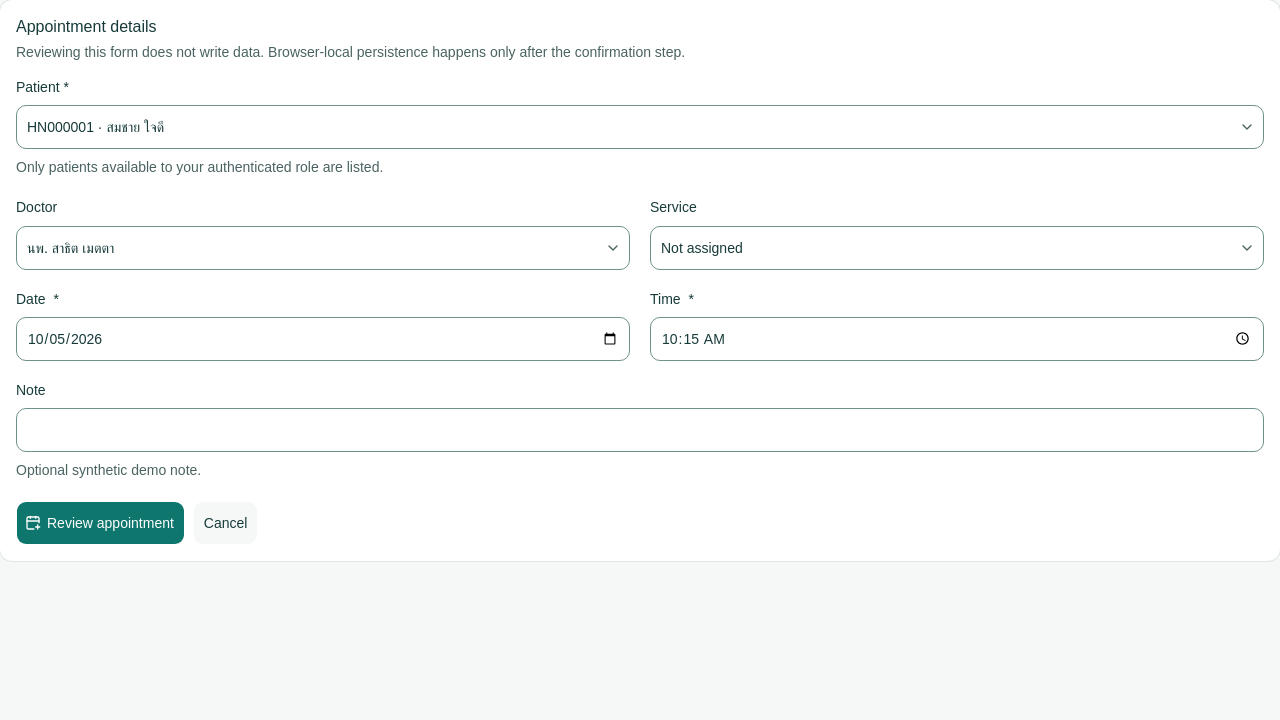
Test case: create appointment confirmation flow › reports storage write failure without claiming success
The image size is (1280, 720).
Click the button "Review appointment": (100, 523) [16, 501, 185, 545]
(page scrolled)
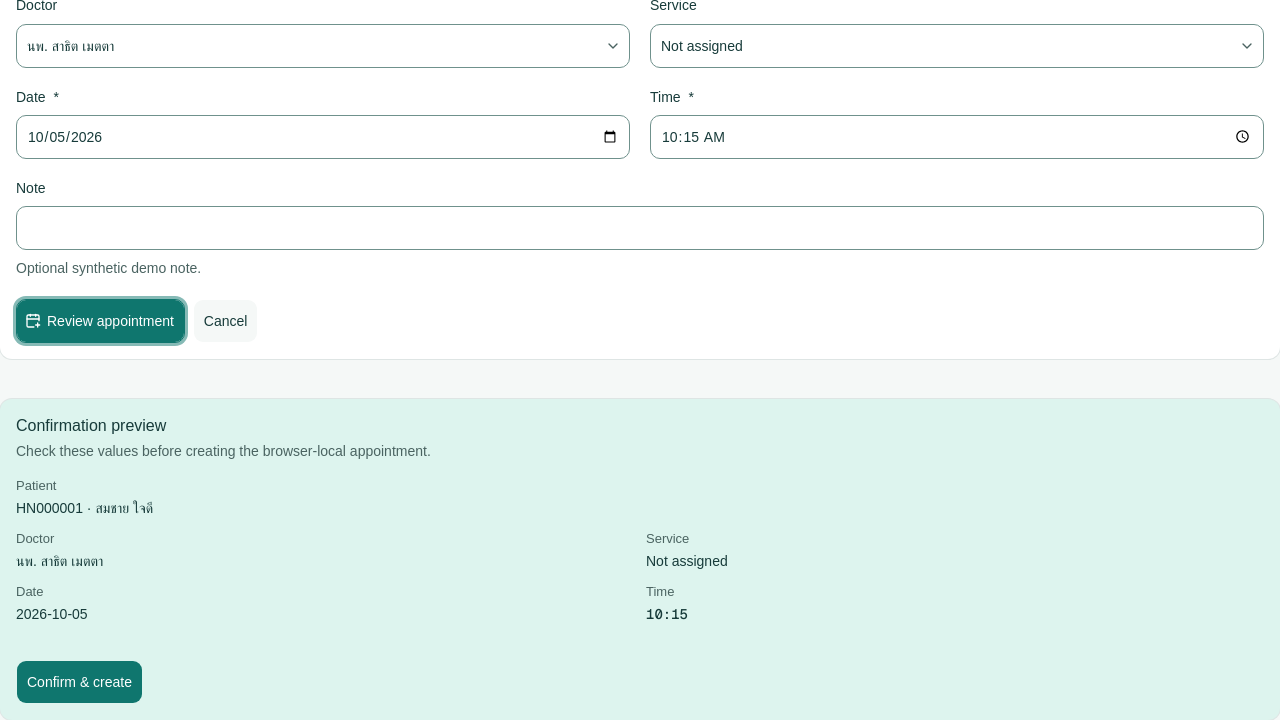
Click the button "Confirm & create": (80, 682) [16, 660, 143, 704]
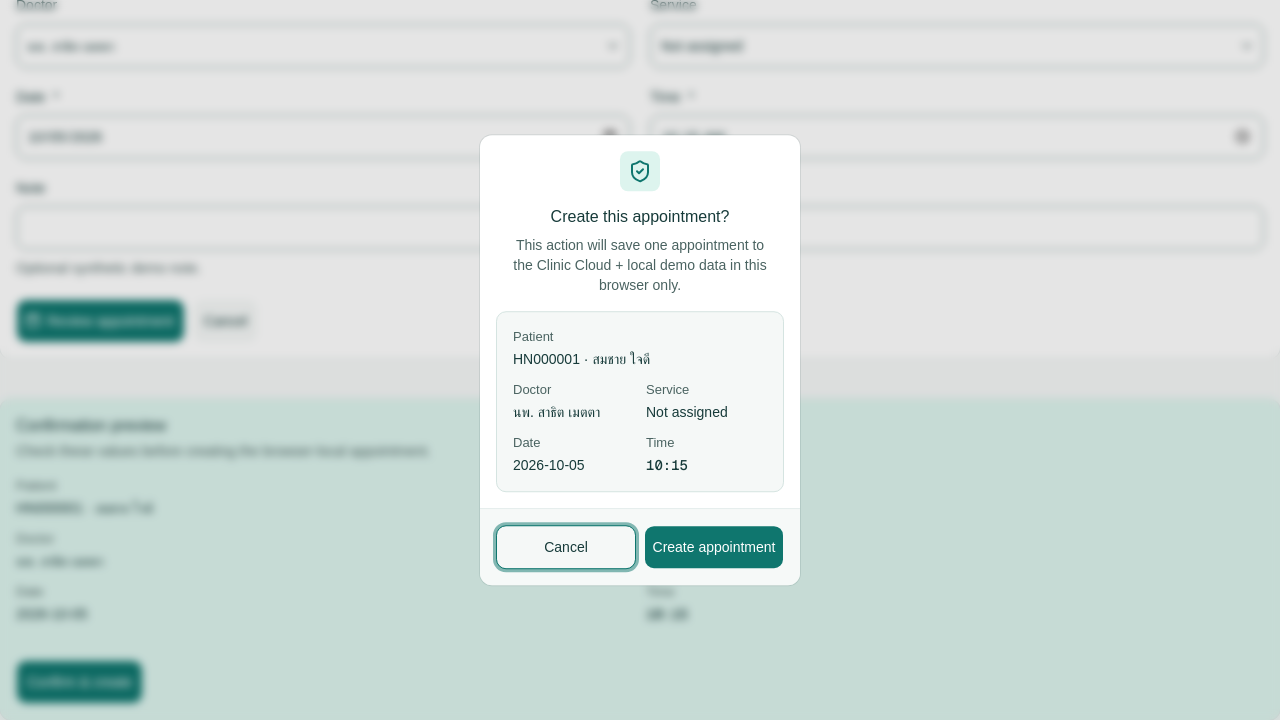
Click the button "Create appointment": (714, 547) [644, 525, 784, 569]
(page scrolled)
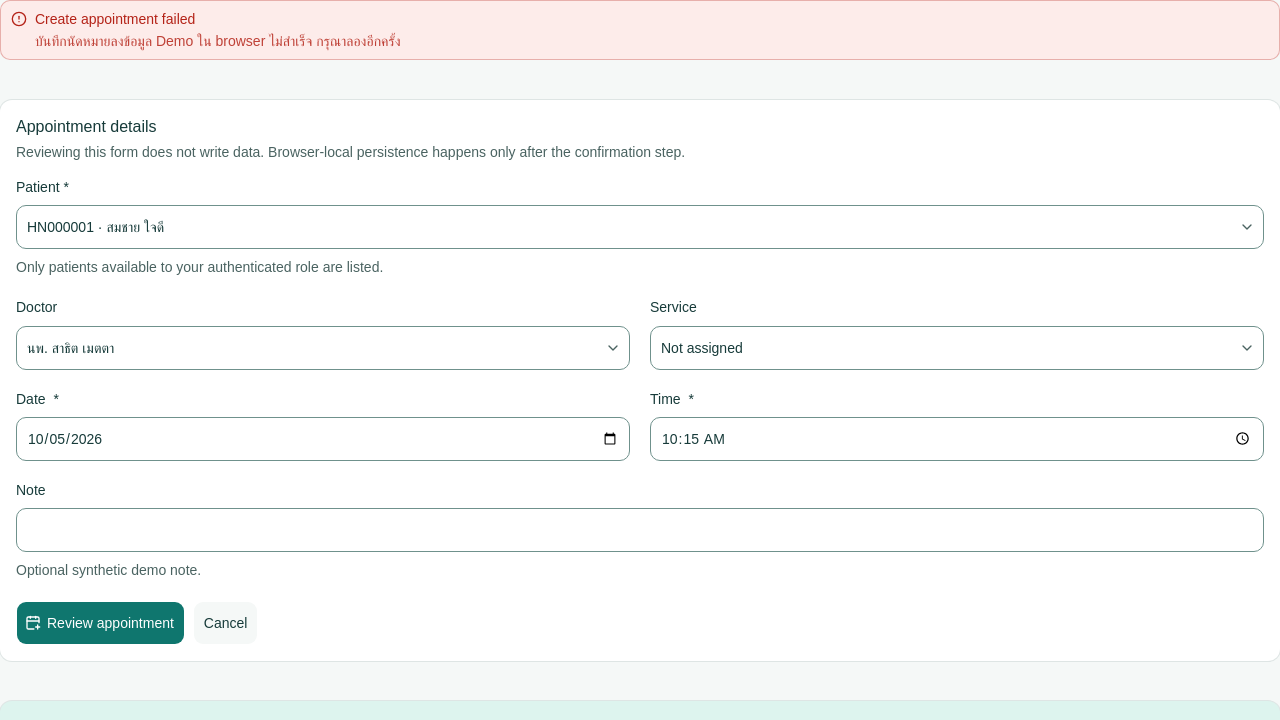
Check: the text "Create appointment failed" is shown, box [35, 11, 195, 27]
